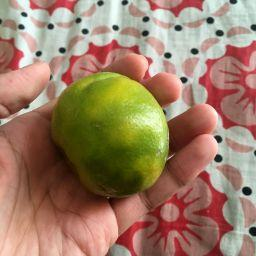Unripe: (53, 71, 173, 197)
